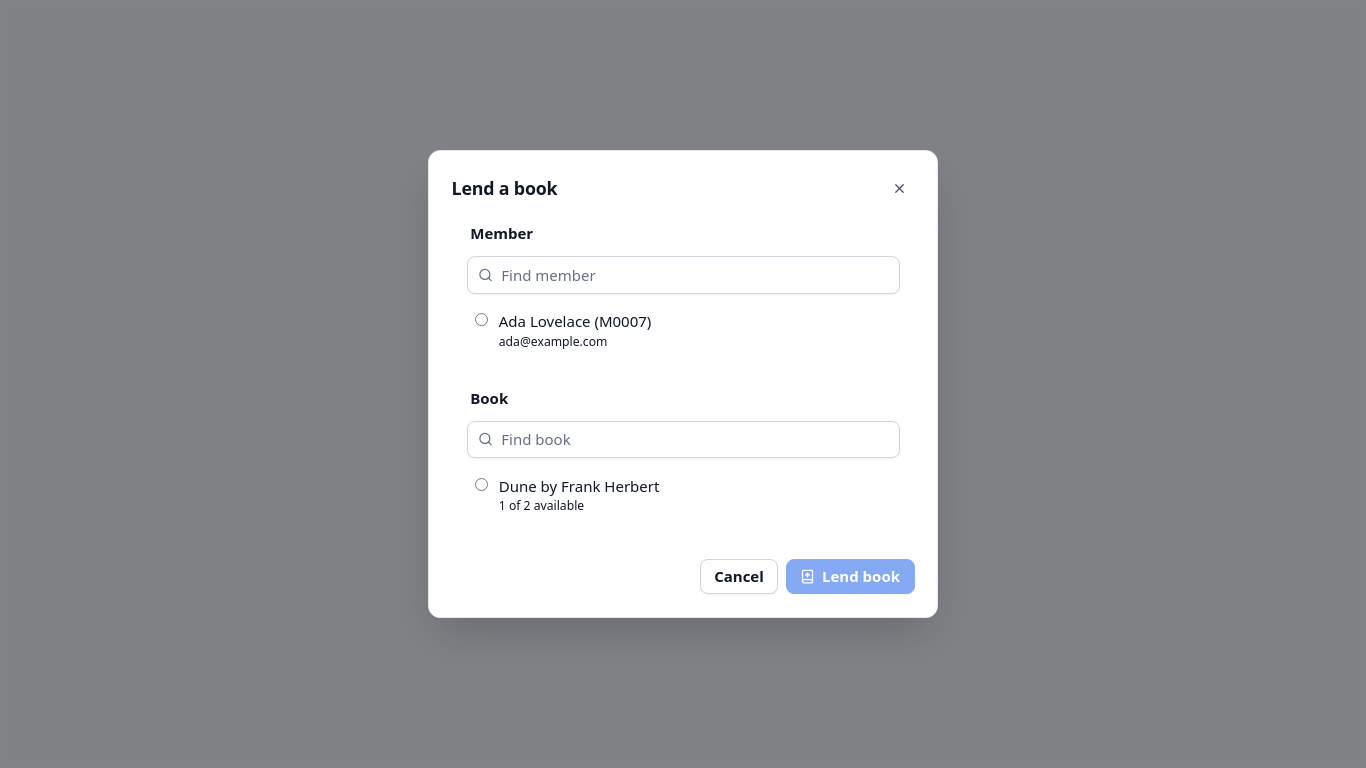
Test: BorrowDialog › can only lend once both a member and a book are chosen
The width and height of the screenshot is (1366, 768).
Check: the button "Lend book" is disabled, box left=786, top=559, right=914, bottom=594
Click the radio button labelled "Ada Lovelace (M0007) ada@example.com" at {"x": 482, "y": 320}, box left=475, top=313, right=488, bottom=326
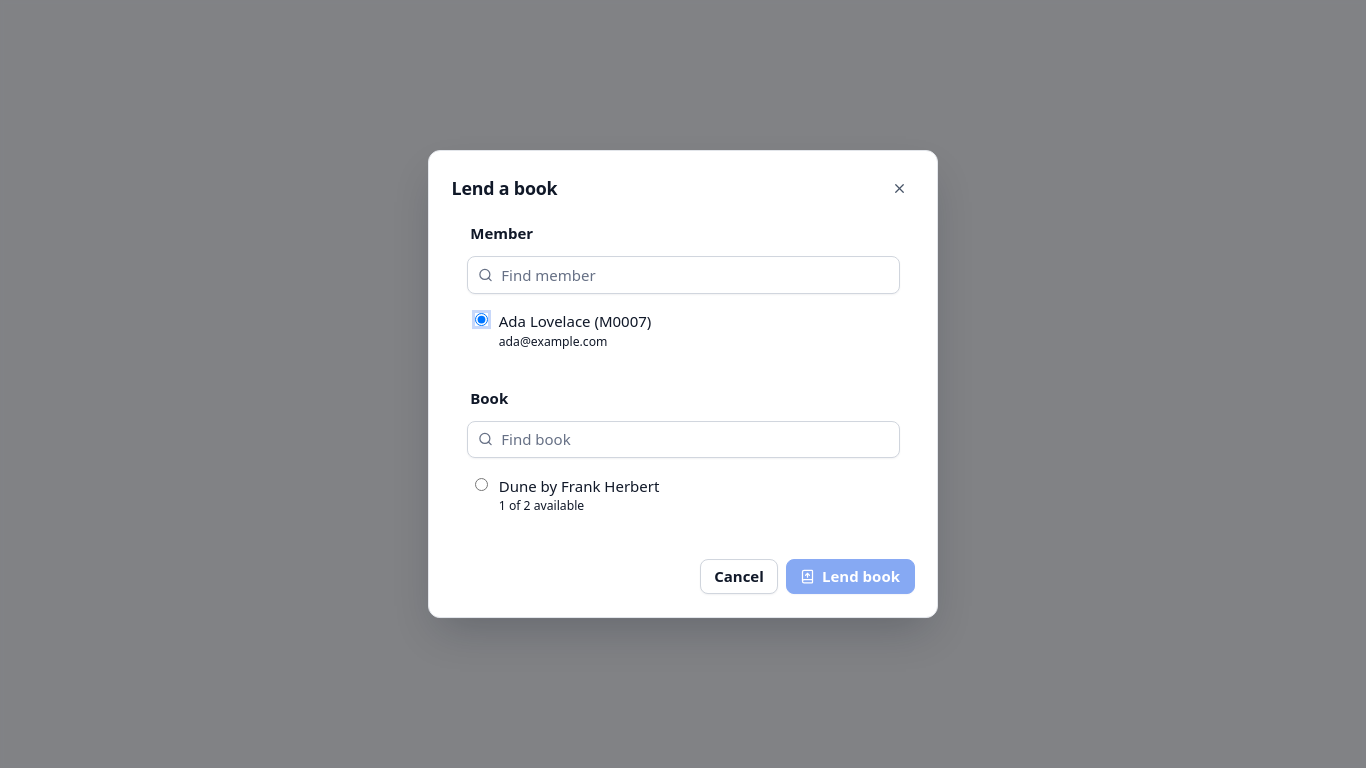
Check: the button "Lend book" is disabled, box left=786, top=559, right=914, bottom=594
Click the radio button labelled "Dune by Frank Herbert 1 of 2 available" at {"x": 482, "y": 484}, box left=475, top=478, right=488, bottom=491
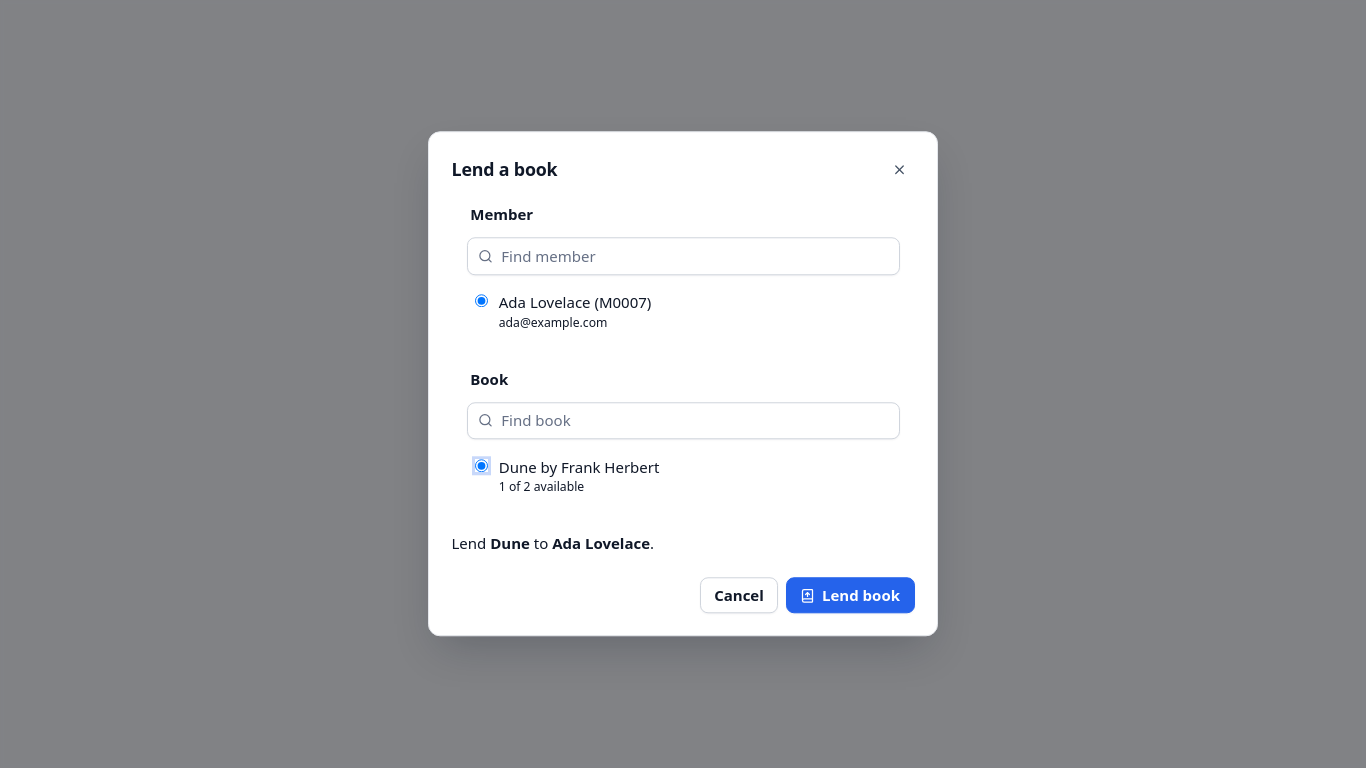
Check: the message reads "Lend Dune to Ada Lovelace.", box left=452, top=534, right=654, bottom=554
Check: the button "Lend book" is enabled, box left=786, top=578, right=914, bottom=613
